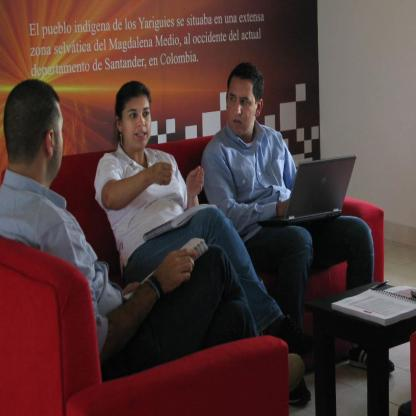board: (268, 152, 359, 229)
